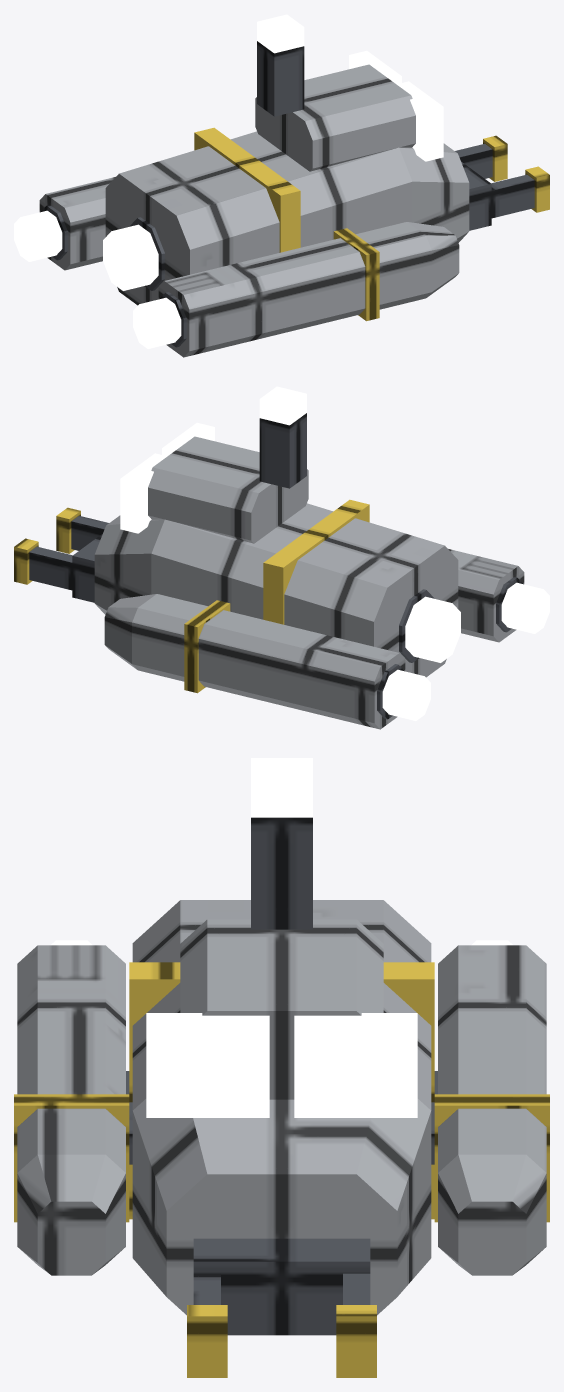
The model's file is tug_lod0.glb.
3 views of the same model, one above another, from view 1: azimuth 30°, elevation 25°; view 2: azimuth 150°, elevation 25°; view 3: azimuth 270°, elevation 25° (orthographic). The views are drawn at different scales.
Parts seen in each view (by area): view 1: tug_lod0_body, tug_lod0_glow; view 2: tug_lod0_body, tug_lod0_glow; view 3: tug_lod0_body, tug_lod0_glow.
Boxes of the visible parts, x1,y1,x2,y2 form: tug_lod0_body: (39,41,549,357); tug_lod0_glow: (14,14,443,348); tug_lod0_body: (14,413,524,729); tug_lod0_glow: (120,386,549,720); tug_lod0_body: (14,817,549,1377); tug_lod0_glow: (51,758,512,1117).
Bounding box in the file's own units: 0.727 × 0.4188 × 0.4345.
2 materials, 1 textured.
